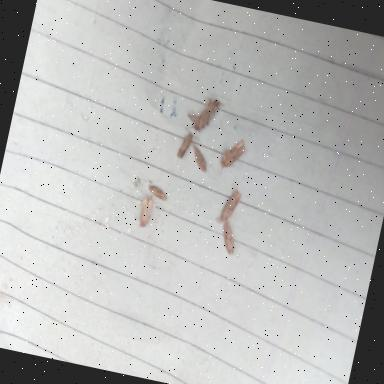pbw: (181, 95, 219, 145), (214, 176, 244, 228), (217, 136, 246, 174), (218, 214, 240, 256), (174, 127, 197, 167), (136, 194, 154, 230), (187, 144, 210, 172), (146, 184, 168, 201)
